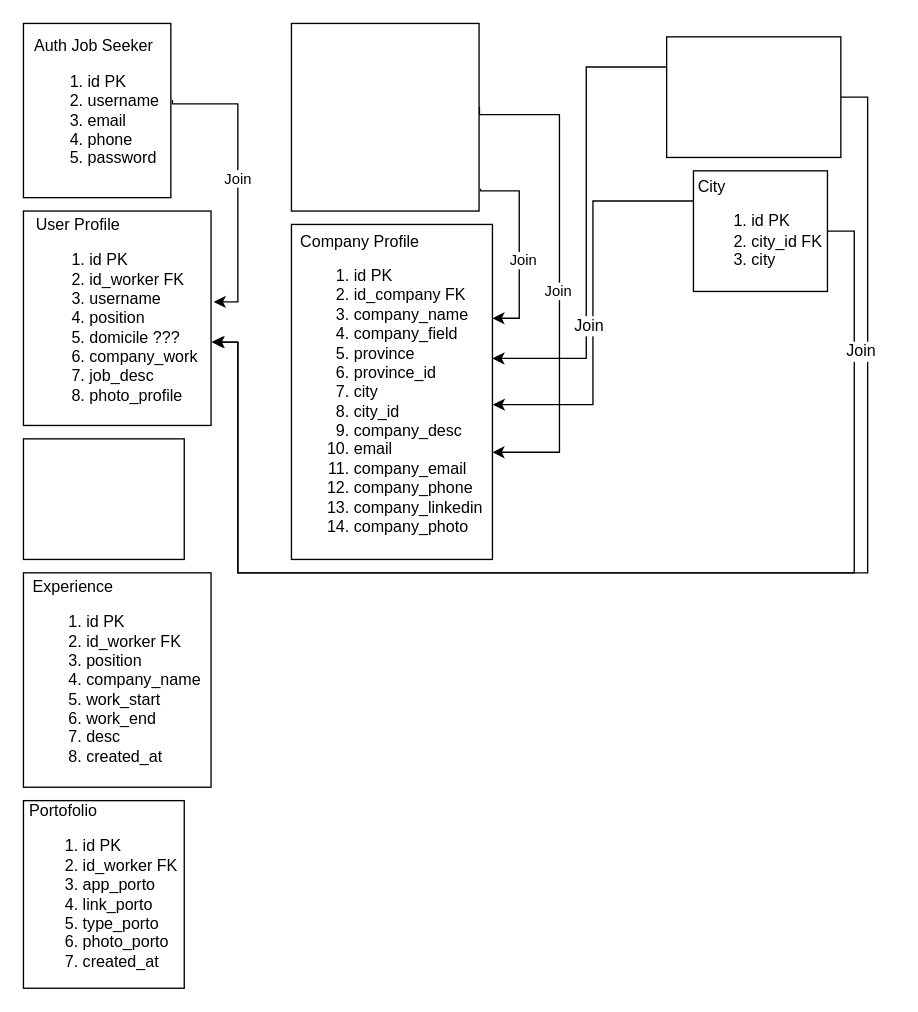
Some shapes in this 918 by 1012 pixel diagram are drawn without their labels. Here are the shapes that lost their labels. From the top down, the centre of each, then its label:
At [384,116]: "Auth Company id PK username email phone password position company_name".
At [753,96]: "Province id PK province_id PK province".
At [103,498]: "Skills id PK id_worker FK skill_name".
